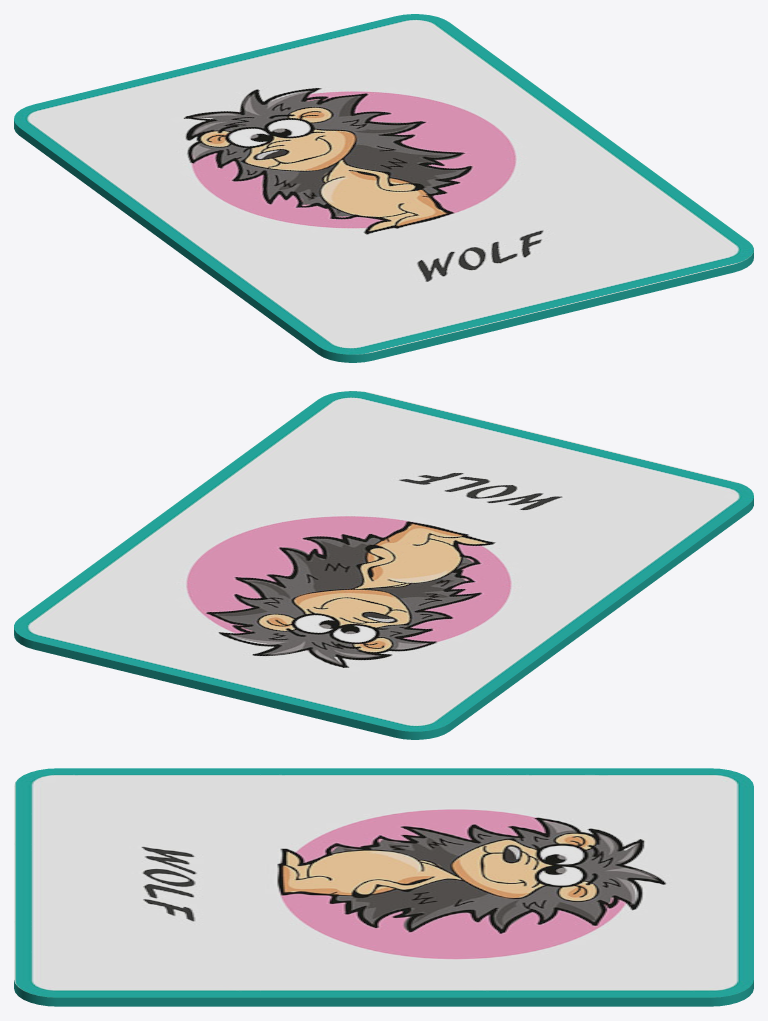
The model's file is carta memory_wolf.fbx.
3 views of the same model, one above another, from view 1: azimuth 30°, elevation 25°; view 2: azimuth 150°, elevation 25°; view 3: azimuth 270°, elevation 25° (orthographic). The views are drawn at different scales.
Parts seen in each view (by area): view 1: pCube1; view 2: pCube1; view 3: pCube1.
Part boxes in pixels (box(x1,y1,x2,y2)): pCube1: box(14, 14, 753, 362); pCube1: box(14, 391, 753, 739); pCube1: box(14, 768, 753, 1006).
Bounding box in the file's own units: 5.5 × 0.1 × 7.5.
1 material, 1 textured.
